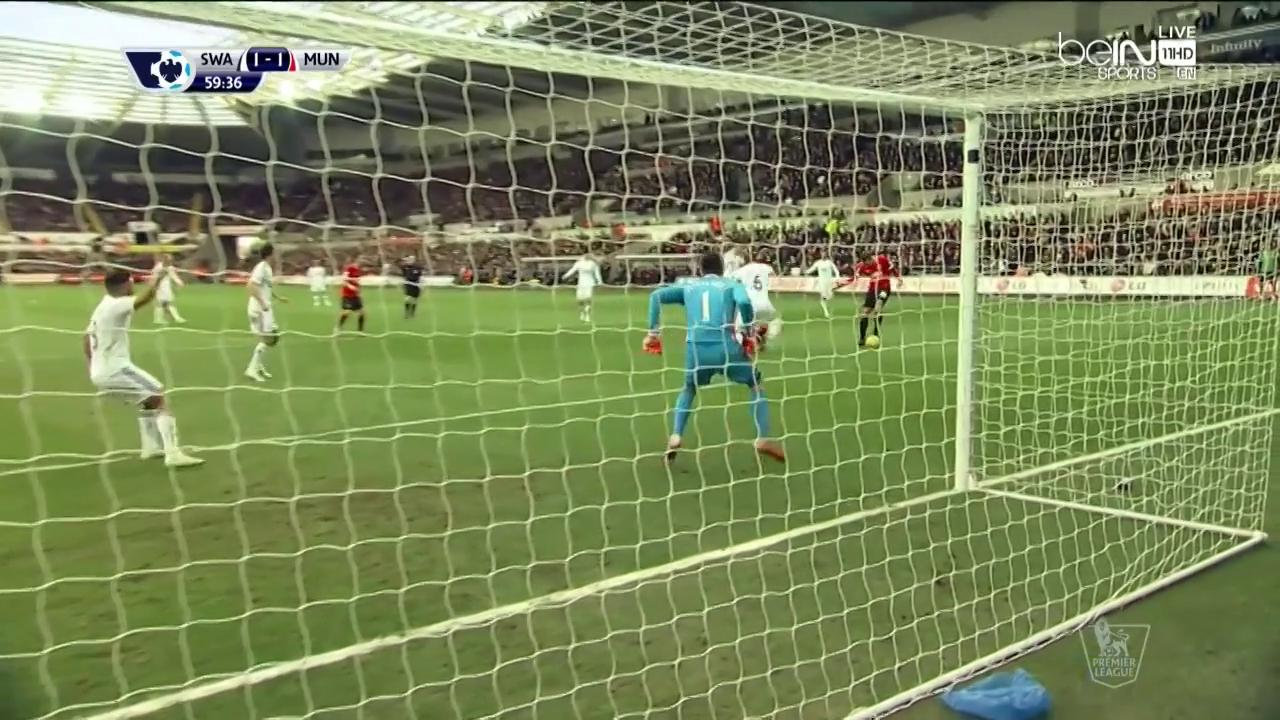football: (864, 333, 881, 350)
